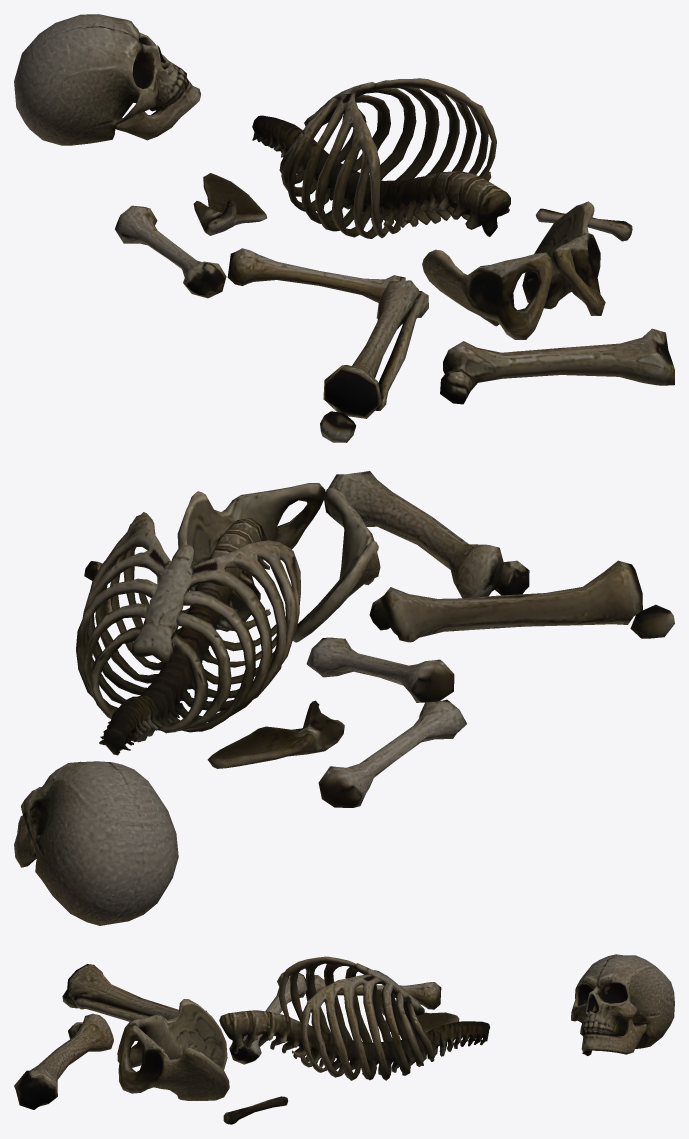
The model's file is debris_bones_01.fbx.
3 views of the same model, one above another, from view 1: azimuth 30°, elevation 25°; view 2: azimuth 150°, elevation 25°; view 3: azimuth 270°, elevation 25° (orthographic). The views are drawn at different scales.
Parts seen in each view (by area): view 1: Skeleton.007; view 2: Skeleton.007; view 3: Skeleton.007.
Boxes of the visible parts, bbox=[...] form: Skeleton.007: bbox=[14, 14, 674, 442]; Skeleton.007: bbox=[14, 471, 674, 925]; Skeleton.007: bbox=[14, 954, 674, 1124].
Bounding box in the file's own units: 90.52 × 34.94 × 169.
1 material, 1 textured.
